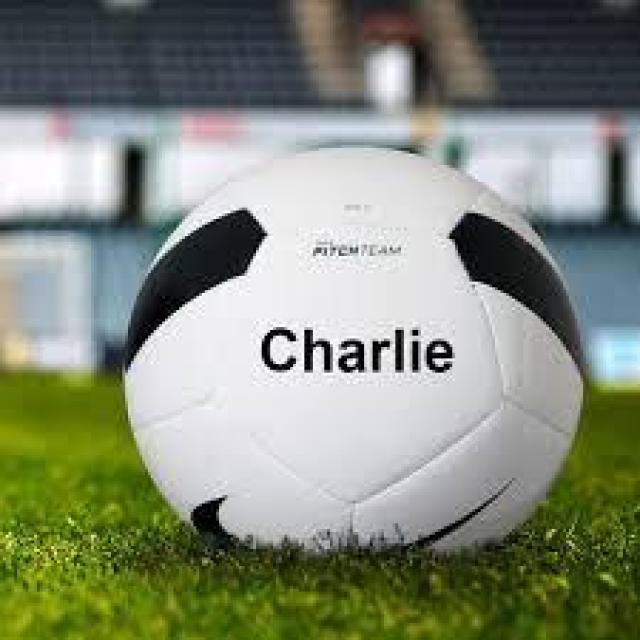Soccer Ball: (125, 153, 586, 554)
